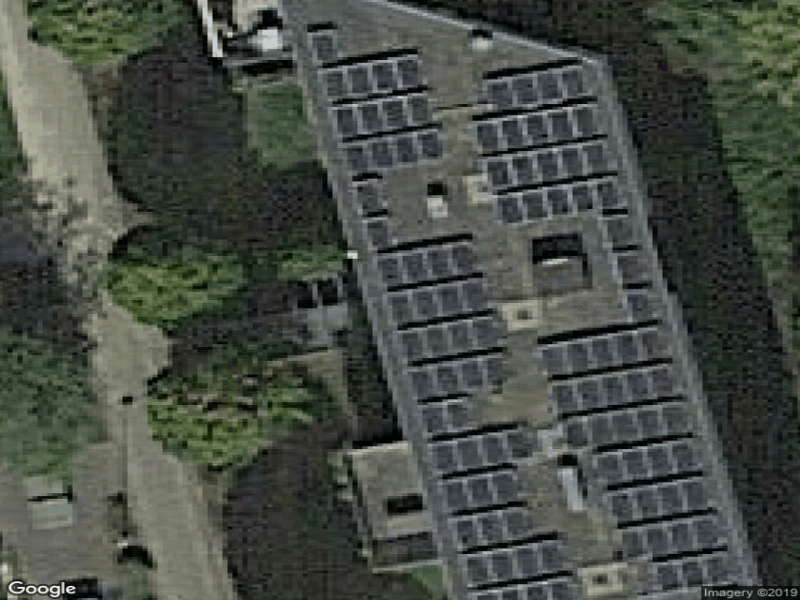pv: (308, 27, 737, 600)
